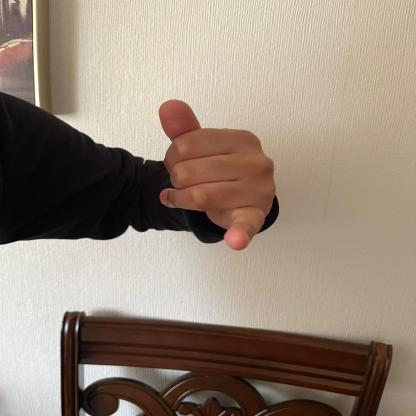Z: (154, 101, 276, 255)
